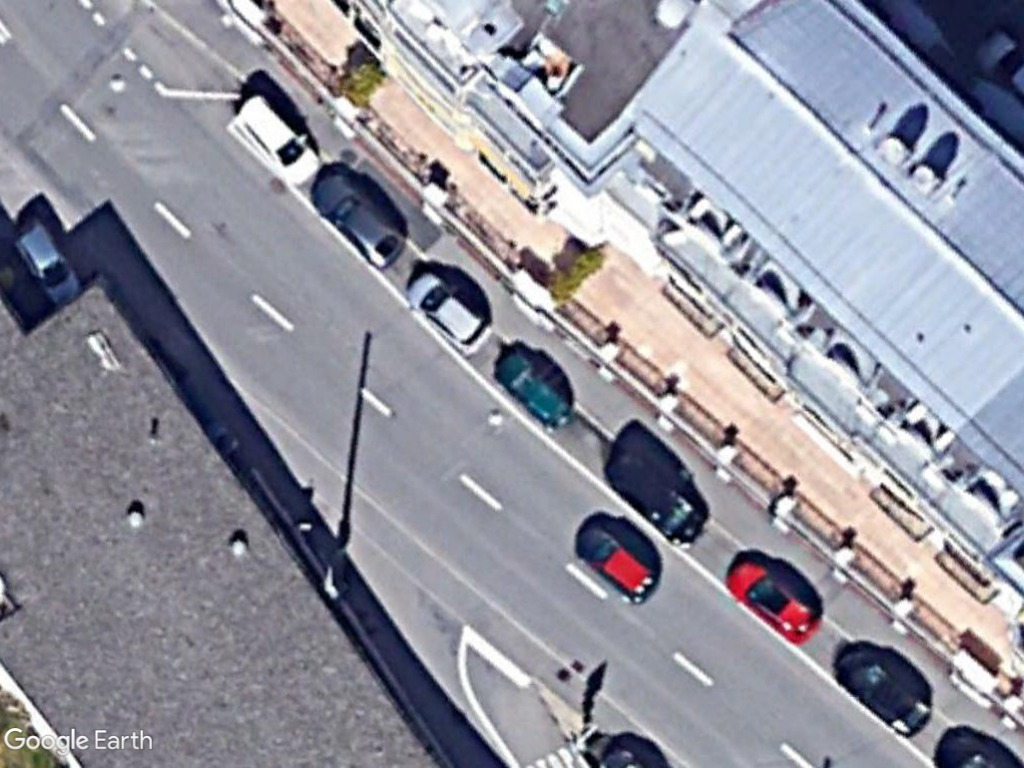car: (308, 167, 411, 272), (834, 643, 934, 743), (722, 553, 824, 645), (232, 90, 320, 186), (567, 521, 659, 604), (493, 348, 579, 434), (404, 271, 492, 353), (12, 215, 83, 308)
